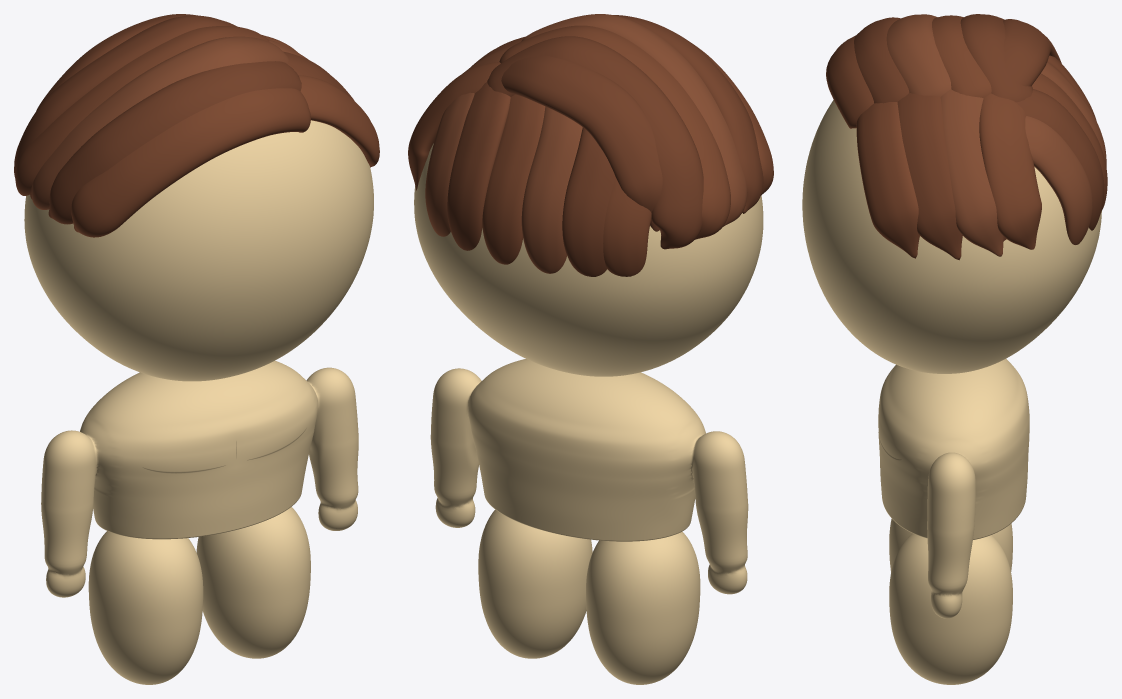
The model's file is Masculine-shirtless-hands-round-base.glb.
3 views of the same model, side by side, from view 1: azimuth 30°, elevation 25°; view 2: azimuth 150°, elevation 25°; view 3: azimuth 270°, elevation 25° (orthographic).
Visible parts, largest first — view 1: Skin / soft oval head, Skin / rounded torso, Skin / leg blob -1, Skin / leg blob 1, Hair / Side part main 0, Hair / Side part main 1, Hair / Side part main 2, Hair / Side part main 3, Hair / Side part main 4, Hair / Side part short 0, Hair / Side part crown, Hair / Side part short 1; view 2: Skin / rounded torso, Skin / soft oval head, Skin / leg blob -1, Skin / leg blob 1, Hair / Side part crown, Hair / Side part main 4, Hair / Side part nape 2, Hair / Side part main 3, Hair / Side part nape 3, Hair / Side part nape 4, Hair / Side part main 2, Hair / Side part nape 1 (+5 smaller); view 3: Skin / soft oval head, Skin / rounded torso, Skin / leg blob 1, Hair / Side part short 3, Hair / Side part short 0, Hair / Side part short 1, Hair / Side part short 2, Hair / Side part nape 5, Hair / Side part main 2, Hair / Side part nape 4, Hair / Side part main 4, Hair / Side part main 1 (+6 smaller).
Part boxes in pixels (left/top/right/bottom): Skin / soft oval head: left=24, top=120, right=373, bottom=381; Skin / rounded torso: left=41, top=360, right=358, bottom=597; Skin / leg blob -1: left=88, top=531, right=203, bottom=684; Skin / leg blob 1: left=196, top=507, right=310, bottom=658; Hair / Side part main 0: left=71, top=88, right=310, bottom=237; Hair / Side part main 1: left=48, top=61, right=301, bottom=224; Hair / Side part main 2: left=31, top=36, right=288, bottom=209; Hair / Side part main 3: left=15, top=26, right=269, bottom=195; Hair / Side part main 4: left=14, top=15, right=236, bottom=177; Hair / Side part short 0: left=298, top=75, right=379, bottom=167; Hair / Side part crown: left=36, top=14, right=197, bottom=110; Hair / Side part short 1: left=283, top=51, right=354, bottom=100; Skin / rounded torso: left=430, top=359, right=748, bottom=594; Skin / soft oval head: left=414, top=143, right=763, bottom=376; Skin / leg blob -1: left=586, top=531, right=700, bottom=684; Skin / leg blob 1: left=478, top=509, right=592, bottom=658; Hair / Side part crown: left=501, top=55, right=662, bottom=231; Hair / Side part main 4: left=487, top=36, right=703, bottom=249; Hair / Side part nape 2: left=521, top=106, right=582, bottom=273; Hair / Side part main 3: left=499, top=25, right=730, bottom=239; Hair / Side part nape 3: left=482, top=94, right=545, bottom=264; Hair / Side part nape 4: left=447, top=82, right=510, bottom=250; Hair / Side part main 2: left=521, top=14, right=747, bottom=226; Hair / Side part nape 1: left=562, top=127, right=615, bottom=276; Skin / soft oval head: left=802, top=100, right=1101, bottom=373; Skin / rounded torso: left=878, top=359, right=1029, bottom=618; Skin / leg blob 1: left=889, top=533, right=1012, bottom=684; Hair / Side part short 3: left=979, top=93, right=1041, bottom=249; Hair / Side part short 0: left=856, top=102, right=919, bottom=258; Hair / Side part short 1: left=897, top=93, right=962, bottom=260; Hair / Side part short 2: left=940, top=89, right=1003, bottom=256; Hair / Side part nape 5: left=1025, top=116, right=1092, bottom=244; Hair / Side part main 2: left=886, top=14, right=951, bottom=96; Hair / Side part nape 4: left=1016, top=89, right=1104, bottom=230; Hair / Side part main 4: left=960, top=14, right=1032, bottom=102; Hair / Side part main 1: left=854, top=17, right=909, bottom=103.
Bounding box in the file's own units: 0.9754 × 1.87 × 0.825.
